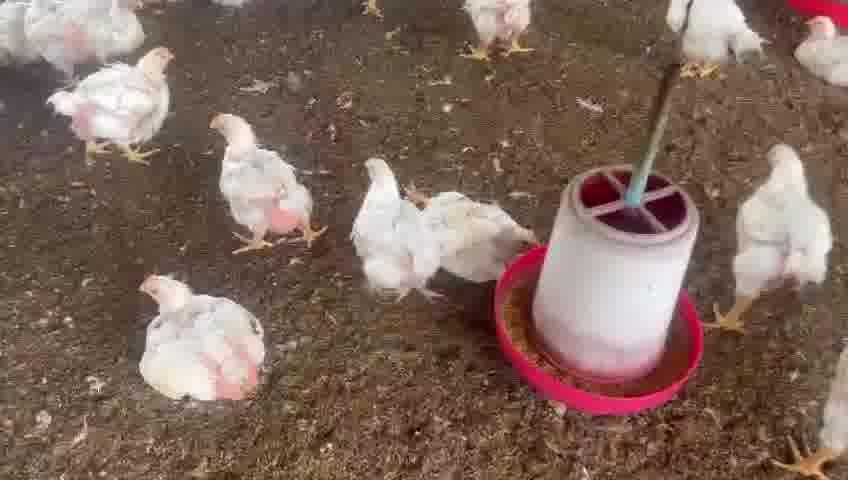AbNormal: (138, 275, 269, 404), (404, 181, 538, 258), (792, 15, 848, 83)
Normal: (710, 141, 834, 326), (206, 111, 325, 247), (53, 47, 176, 166), (350, 156, 438, 297), (22, 0, 147, 79), (785, 334, 848, 480), (668, 3, 757, 78), (460, 2, 538, 62)
